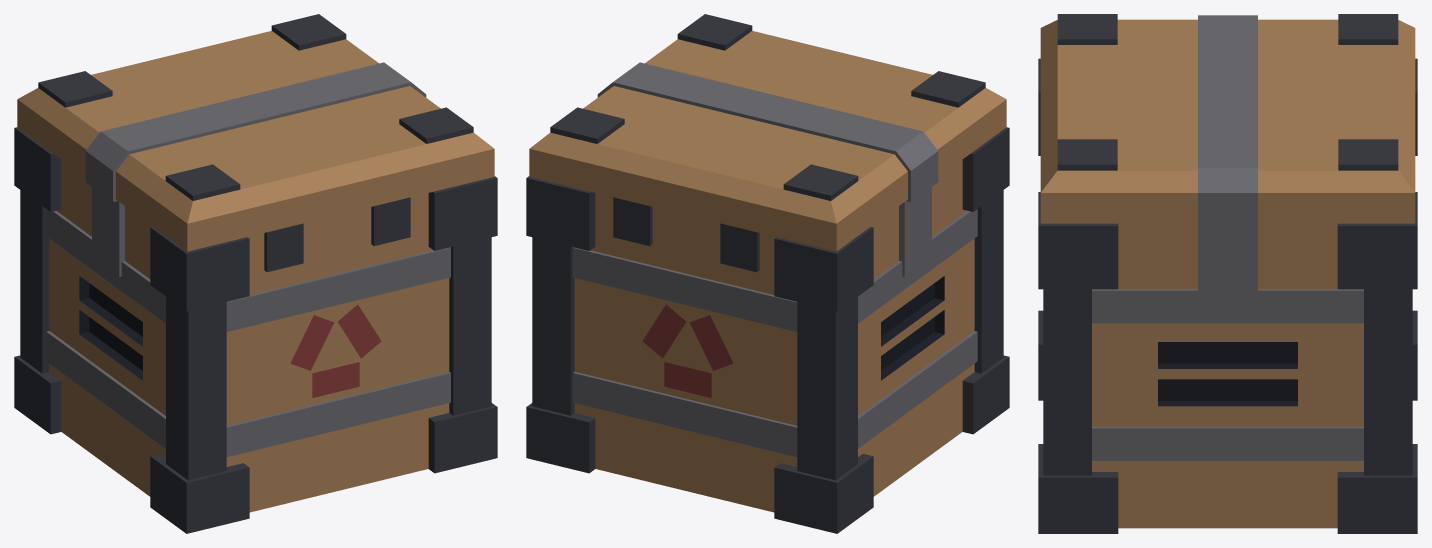
The model's file is supply-crate-57aa8d.glb.
3 views of the same model, side by side, from view 1: azimuth 30°, elevation 25°; view 2: azimuth 150°, elevation 25°; view 3: azimuth 270°, elevation 25° (orthographic). The views are drawn at different scales.
Visible parts, largest first — view 1: crate-body, lid-mesh; view 2: crate-body, lid-mesh; view 3: crate-body, lid-mesh.
Boxes of the visible parts, x1,y1,x2,y2 form: crate-body: (14, 127, 497, 533); lid-mesh: (17, 14, 494, 251); crate-body: (526, 127, 1009, 533); lid-mesh: (529, 14, 1006, 251); crate-body: (1038, 58, 1417, 533); lid-mesh: (1040, 14, 1415, 227).
Bounding box in the file's own units: 0.996 × 0.996 × 0.948.
